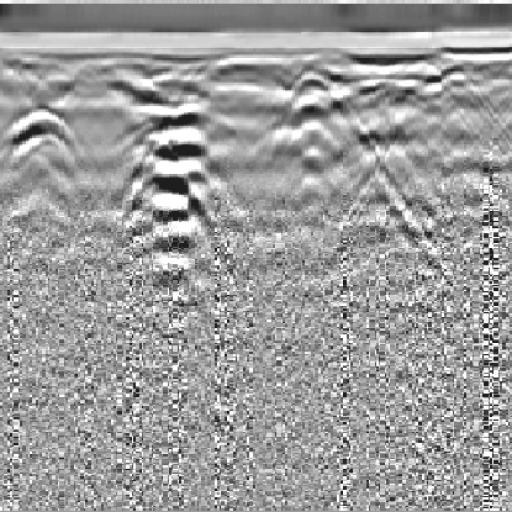metalic: (94, 70, 256, 318)
